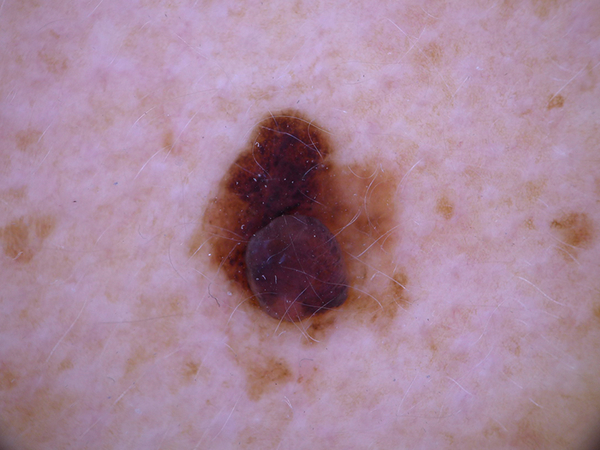Detected Lesion: (191, 104, 406, 339)
